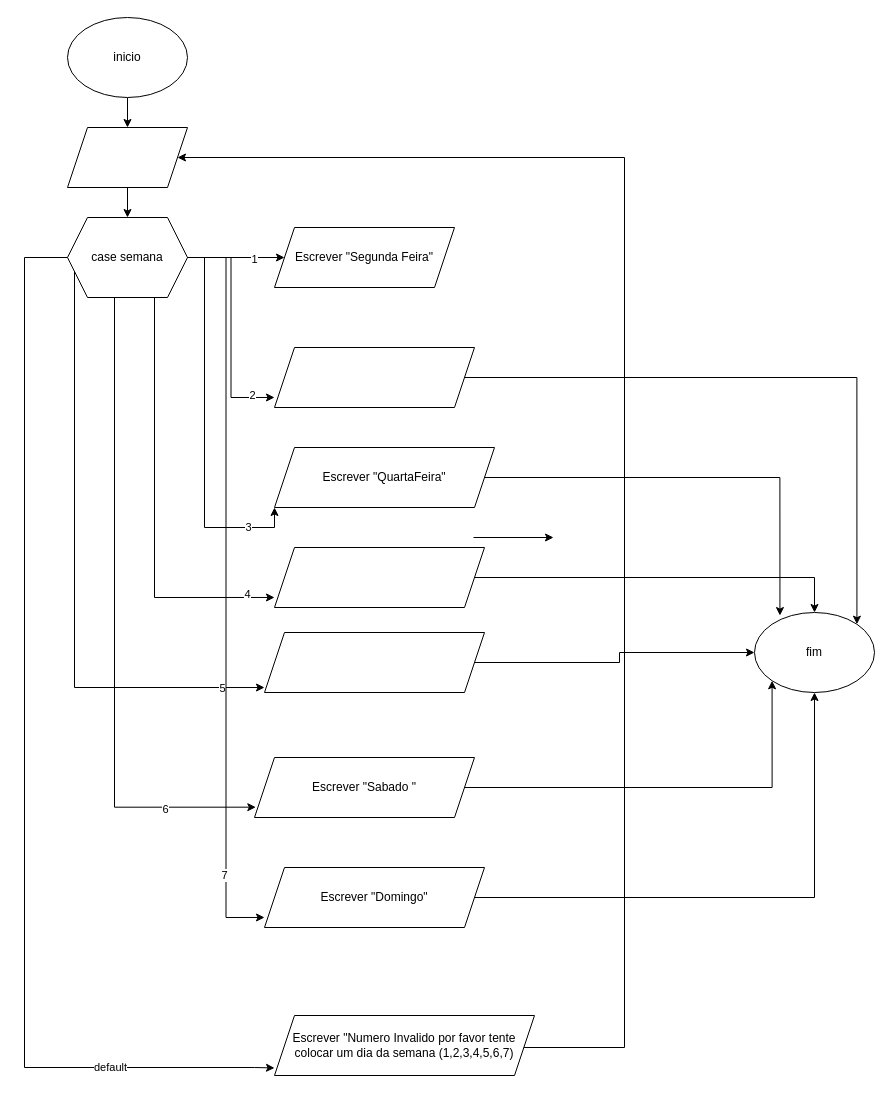
Some shapes in this 892 by 1094 pixel diagram are drawn without their labels. Here are the shapes that lost their labels. From the top down, the box of each, then its label:
(66, 126, 188, 188): ler semana
(274, 346, 474, 408): Escrever "TerçaFeira"
(274, 546, 484, 608): Escrever "Quinta Feira"
(264, 632, 484, 692): Escrever "Sexta Feira"
